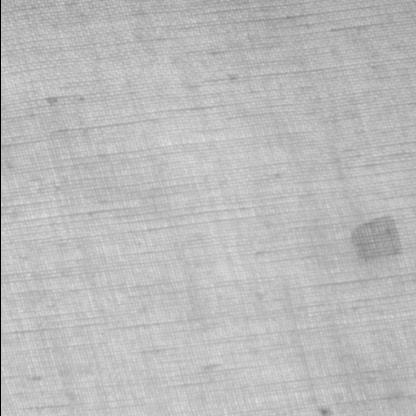oil spot: (347, 214, 405, 263)
